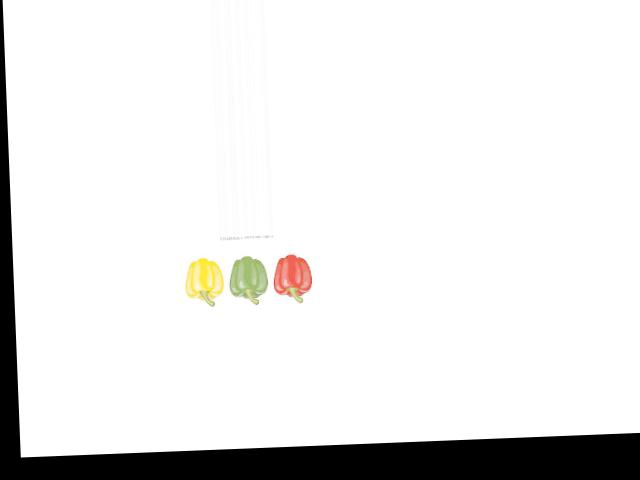bell_pepper: (181, 253, 227, 306)
